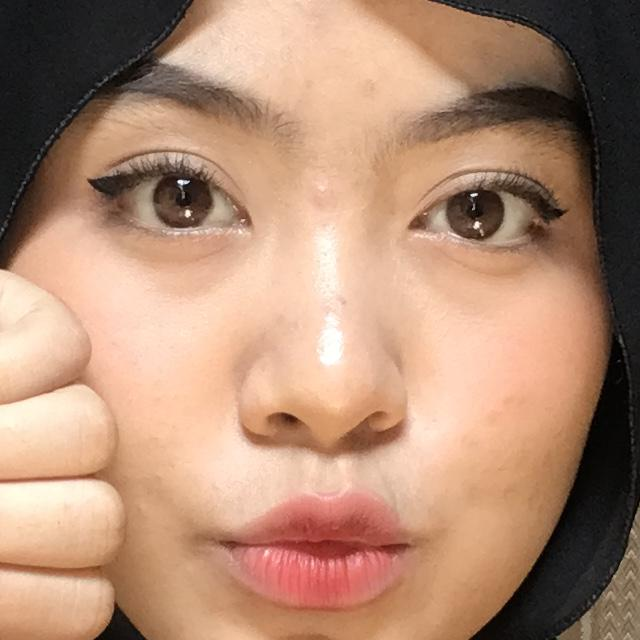sedih: (0, 106, 380, 640)
